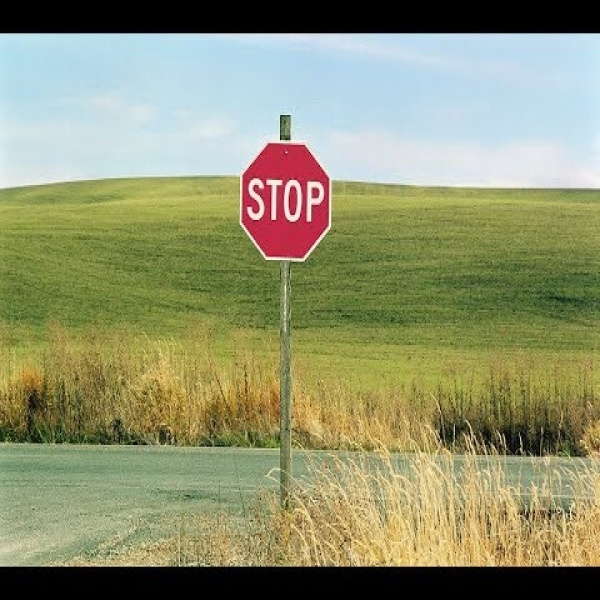stop: (236, 137, 333, 256)
